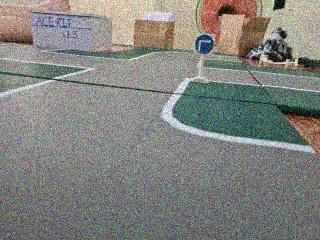right: (191, 31, 215, 59)
